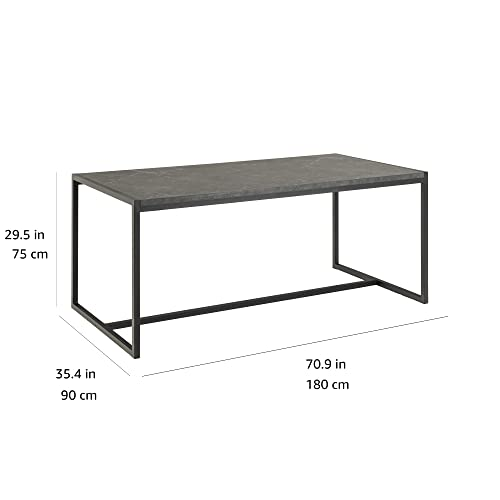180: (307, 379, 328, 389)
29.5: (5, 230, 30, 240)
90cm: (61, 390, 96, 400)
cm: (332, 382, 349, 389)
in: (35, 230, 44, 239)
